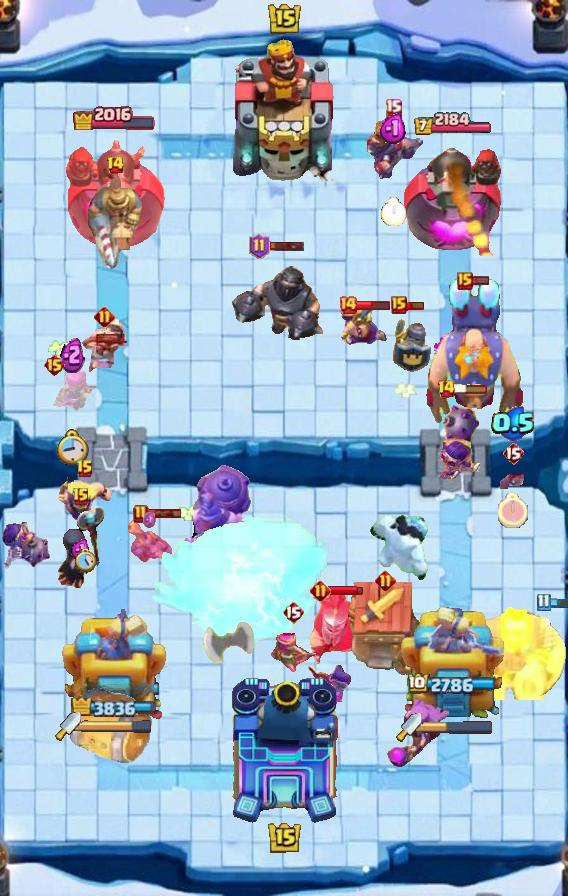arrows: (57, 477, 113, 531), (339, 301, 387, 347)
bar: (62, 601, 166, 731), (399, 607, 507, 731)
barbarian-barrel: (500, 470, 526, 489)
cannon: (268, 629, 318, 675)
dirt: (67, 685, 153, 767)
electro-spirit: (492, 406, 537, 441), (60, 335, 85, 373), (380, 113, 408, 145), (71, 539, 91, 561), (143, 511, 157, 529)
elixir: (56, 429, 89, 465), (498, 492, 528, 527), (382, 197, 406, 226), (75, 548, 96, 572)
elixir-golem-big: (360, 105, 426, 185)
emote: (267, 240, 304, 252), (453, 383, 489, 395), (328, 585, 364, 597), (357, 299, 392, 311), (146, 509, 181, 520), (470, 274, 489, 286), (548, 597, 567, 609), (405, 301, 425, 312)
evolution-symbol: (47, 365, 97, 415)
giant-skeleton: (458, 606, 568, 700)
goblin: (305, 663, 357, 705)
goblin-ball: (436, 388, 484, 484), (0, 521, 54, 571)
king-tower: (228, 676, 340, 826), (228, 35, 340, 181)
king-tower-bar: (81, 719, 153, 733), (422, 720, 494, 734)
little-prince: (422, 278, 526, 426)
mega-knight: (149, 513, 333, 649)
princess: (390, 310, 432, 374)
rage: (368, 514, 430, 582)
ram-rider: (84, 164, 146, 272)
rascal-boy: (56, 505, 106, 593)
rascal-girl: (385, 696, 453, 770)
royal-delivery: (127, 519, 173, 565)
royal-giant: (203, 622, 255, 682)
royal-guardian: (229, 251, 323, 347)
selected: (71, 102, 156, 129), (408, 672, 498, 696), (413, 112, 493, 137), (71, 699, 157, 718)
skeleton-dragon: (80, 315, 128, 373)
sparky: (342, 581, 428, 679)
text: (42, 353, 65, 377), (249, 233, 270, 259), (502, 441, 524, 465), (282, 600, 304, 624), (309, 579, 330, 601), (94, 306, 115, 327), (375, 569, 396, 590), (338, 295, 358, 315), (106, 155, 125, 175), (436, 379, 455, 399), (76, 459, 94, 479), (72, 487, 90, 507), (385, 99, 403, 118), (133, 504, 149, 524), (457, 272, 473, 290), (391, 296, 407, 314), (537, 593, 552, 611)
tower-bar: (60, 132, 167, 256), (404, 138, 505, 256)
wall-breaker-evolution: (309, 590, 365, 670)
wizard: (172, 463, 254, 577)
